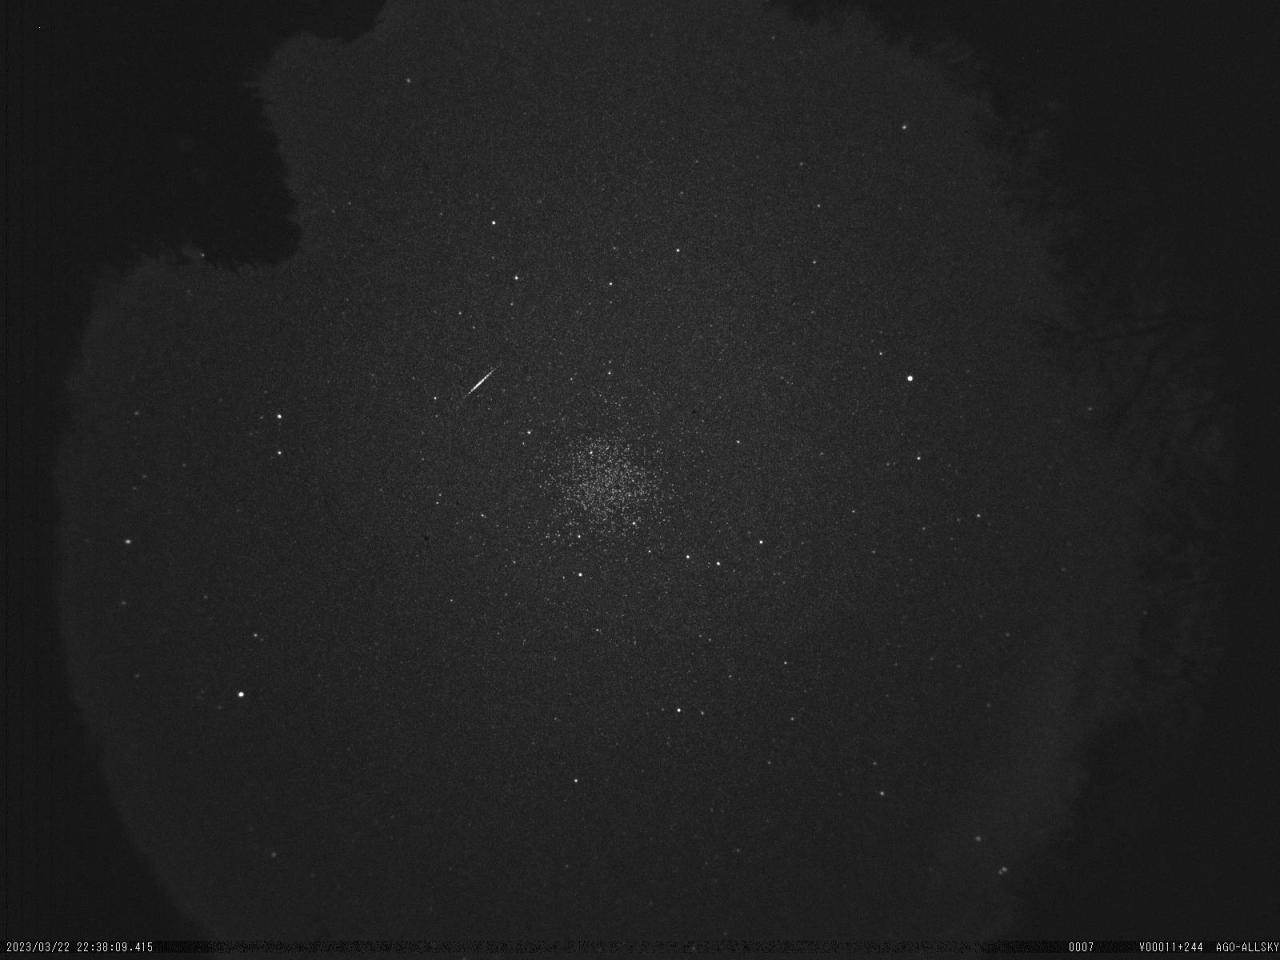Meteor: (461, 363, 499, 402)
